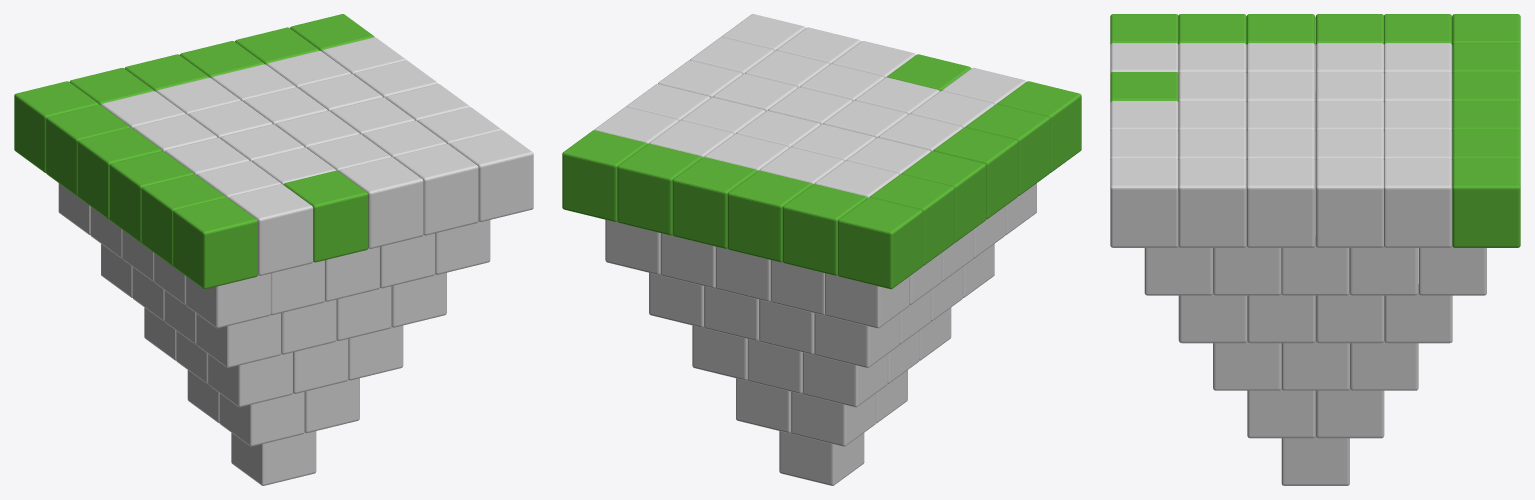
Rendered from CubeLand.fbx.
3 views of the same model, side by side, from view 1: azimuth 30°, elevation 25°; view 2: azimuth 150°, elevation 25°; view 3: azimuth 270°, elevation 25° (orthographic). The views are drawn at different scales.
Parts seen in each view (by area): view 1: Cube.017, Cube.014, Cube.020, Cube.026, Cube.011, Cube.023, Cube.008, Cube.016, Cube.007, Cube.015, Cube.006, Cube.063 (+49 smaller); view 2: Cube.007, Cube.028, Cube.004, Cube.031, Cube.001, Cube.034, Cube.016, Cube.015, Cube.008, Cube.006, Cube.017, Cube.075 (+49 smaller); view 3: Cube.022, Cube.021, Cube.023, Cube.031, Cube.030, Cube.032, Cube.087, Cube.064, Cube.072, Cube.076, Cube.086, Cube.068 (+39 smaller).
Boxes of the visible parts, x1,y1,x2,y2 form: Cube.017: (173, 197, 257, 289); Cube.014: (283, 170, 368, 262); Cube.020: (394, 143, 478, 235); Cube.026: (338, 157, 423, 248); Cube.011: (228, 184, 313, 275); Cube.023: (449, 130, 533, 221); Cube.008: (77, 127, 162, 219); Cube.016: (109, 151, 194, 242); Cube.007: (14, 81, 98, 172); Cube.015: (141, 174, 226, 265); Cube.006: (46, 104, 130, 196); Cube.063: (196, 313, 281, 367); Cube.007: (838, 197, 922, 289); Cube.028: (617, 143, 702, 235); Cube.004: (727, 170, 812, 262); Cube.031: (562, 130, 646, 221); Cube.001: (782, 184, 867, 275); Cube.034: (672, 157, 757, 248); Cube.016: (933, 127, 1018, 219); Cube.015: (965, 104, 1050, 195); Cube.008: (901, 151, 986, 242); Cube.006: (870, 174, 954, 265); Cube.017: (997, 81, 1081, 172); Cube.075: (814, 313, 899, 367); Cube.022: (1246, 158, 1315, 247); Cube.021: (1178, 158, 1246, 247); Cube.023: (1110, 158, 1178, 247); Cube.031: (1452, 158, 1520, 247); Cube.030: (1384, 158, 1452, 247); Cube.032: (1315, 158, 1383, 247); Cube.087: (1315, 388, 1384, 438); Cube.064: (1178, 293, 1247, 343); Cube.072: (1315, 293, 1384, 343); Cube.076: (1384, 254, 1452, 343); Cube.086: (1247, 388, 1315, 438); Cube.068: (1247, 294, 1315, 343).
Bounding box in the file's own units: 1200 × 1200 × 1198.
